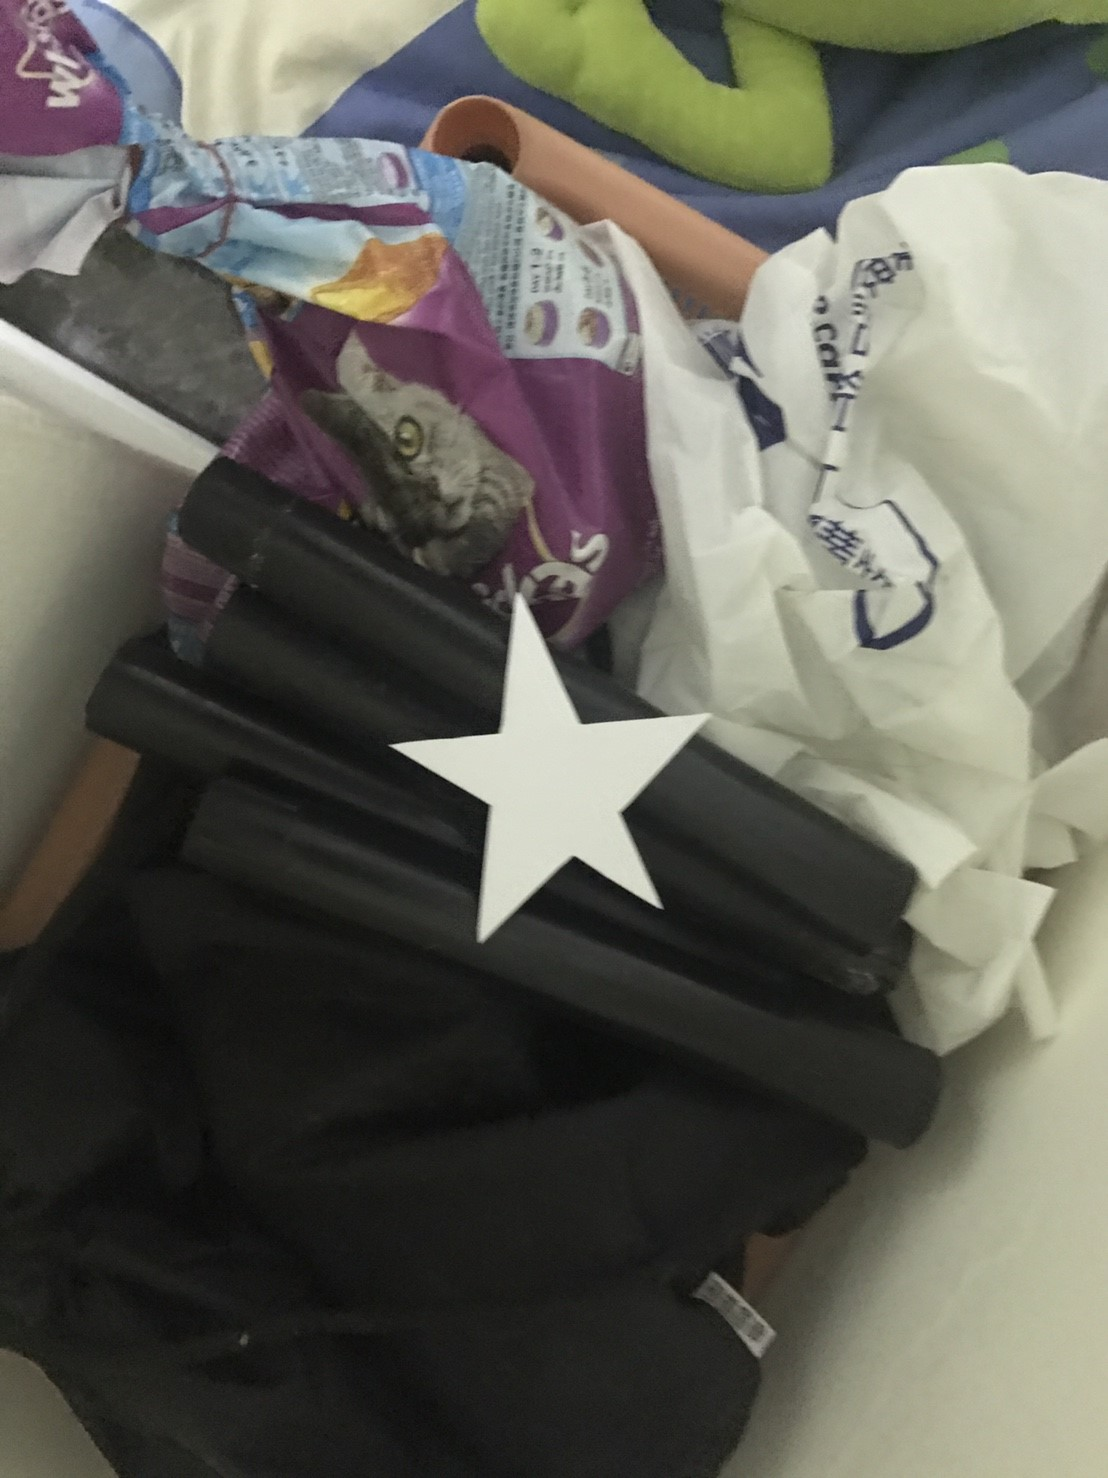star: (381, 574, 729, 952)
